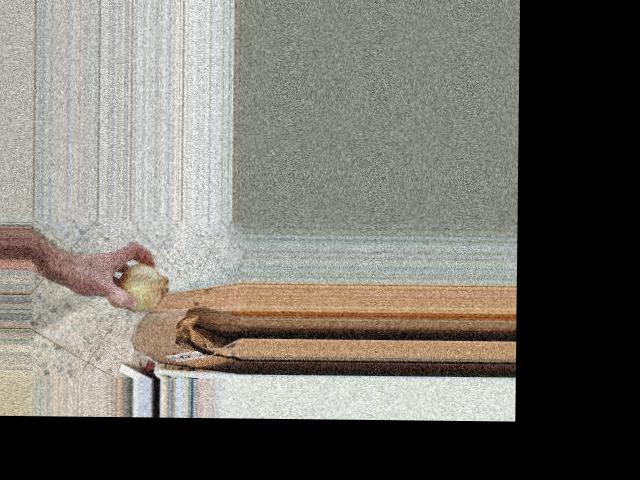onion: (103, 257, 170, 316)
